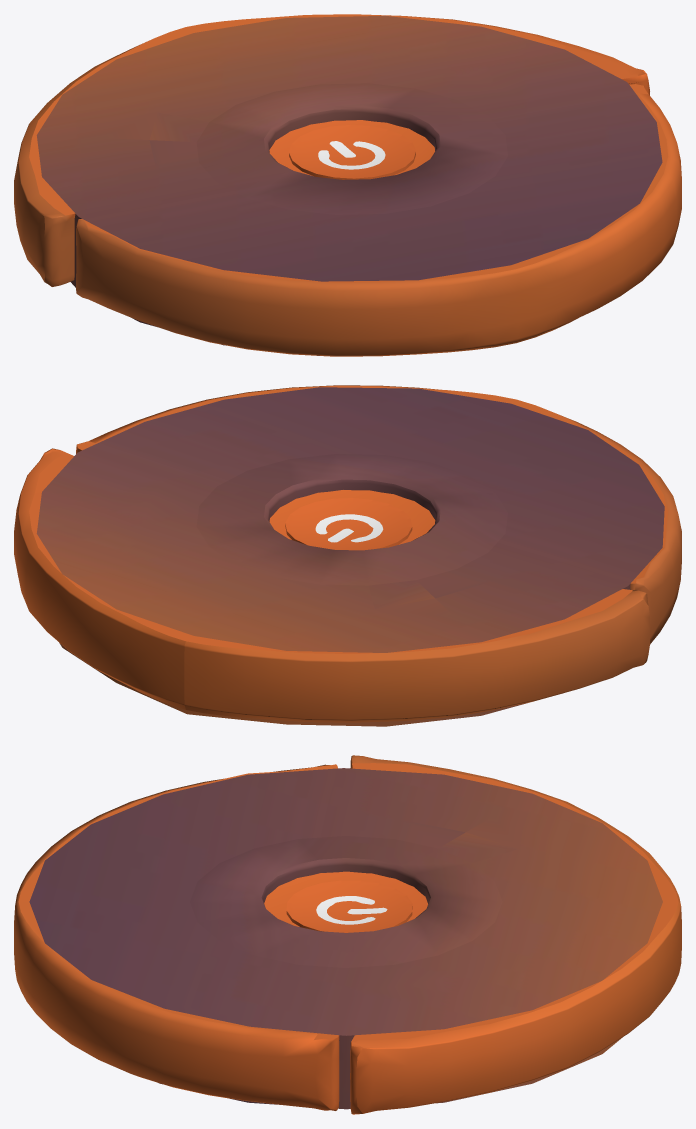
The model's file is RoombaOrange.fbx.
3 views of the same model, one above another, from view 1: azimuth 30°, elevation 25°; view 2: azimuth 150°, elevation 25°; view 3: azimuth 270°, elevation 25° (orthographic).
Parts seen in each view (by area): view 1: polySurface43; view 2: polySurface43; view 3: polySurface43.
Boxes of the visible parts, left/top/right/bottom form: polySurface43: left=14, top=14, right=681, bottom=356; polySurface43: left=14, top=385, right=681, bottom=726; polySurface43: left=14, top=755, right=681, bottom=1114.
Bounding box in the file's own units: 54.53 × 7.09 × 52.11.
